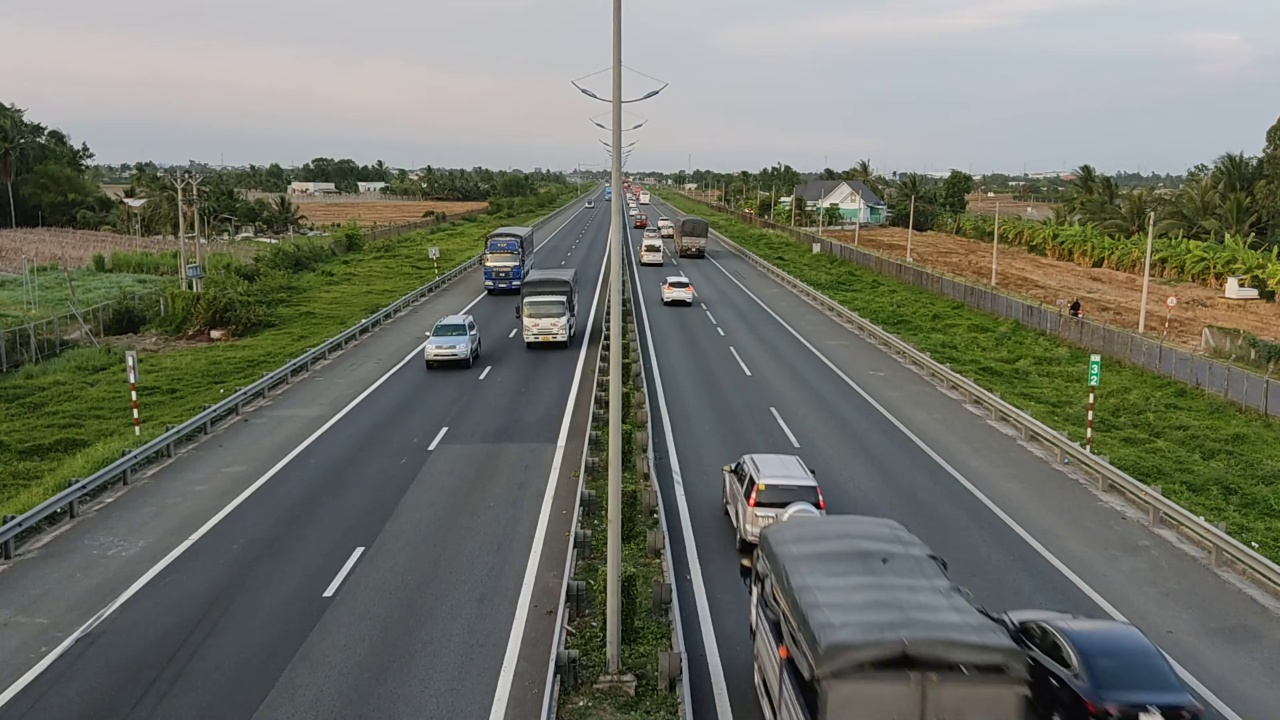car: (1001, 607, 1207, 719), (721, 451, 827, 554), (423, 313, 482, 369), (659, 274, 695, 305)
truck: (747, 510, 1037, 717), (516, 265, 580, 349), (482, 225, 537, 294), (674, 215, 709, 257)
